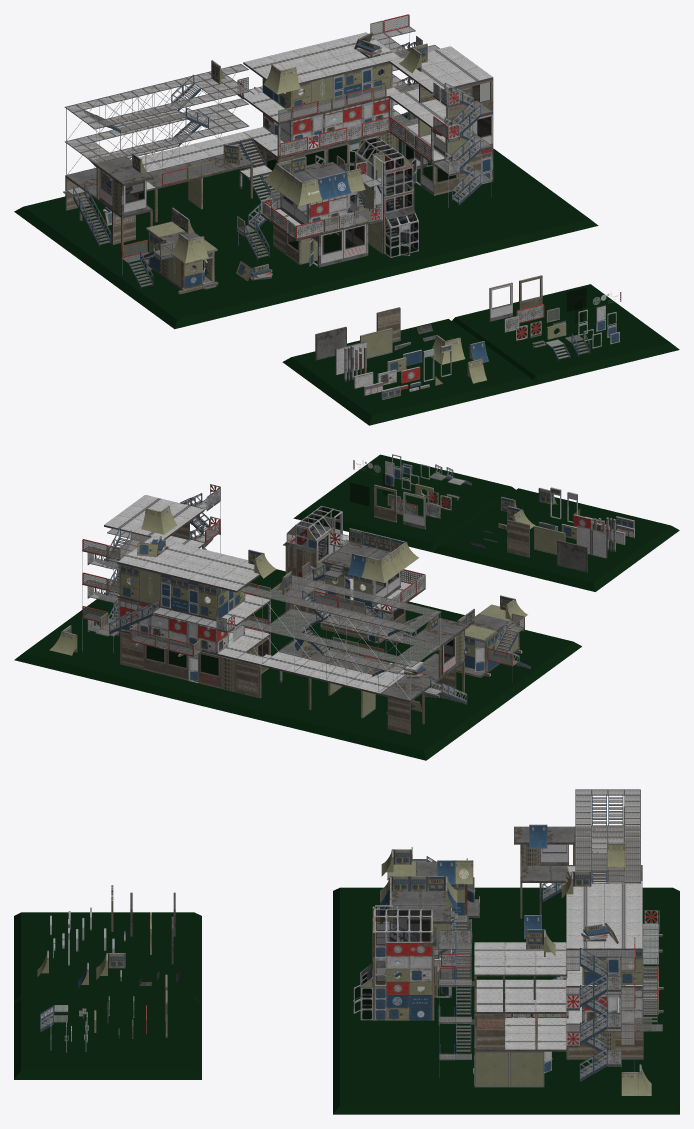
The picture shows the model from 3 angles, top to bottom: view 1: azimuth 30°, elevation 25°; view 2: azimuth 150°, elevation 25°; view 3: azimuth 270°, elevation 25°; orthographic projection. The views are drawn at different scales.
Visible parts, largest first — view 1: Floor, NO_Opacity_Buildings, WITH_opacity_Buildings, NO_Opacity_Kit, WITH_Opacity_Kit; view 2: Floor, NO_Opacity_Buildings, WITH_opacity_Buildings, NO_Opacity_Kit, WITH_Opacity_Kit; view 3: Floor, NO_Opacity_Buildings, WITH_opacity_Buildings, NO_Opacity_Kit, WITH_Opacity_Kit.
Part boxes in pixels (<box>): Floor: <box>14,113,679,425</box>; NO_Opacity_Buildings: <box>63,32,493,294</box>; WITH_opacity_Buildings: <box>64,14,493,289</box>; NO_Opacity_Kit: <box>315,307,619,400</box>; WITH_Opacity_Kit: <box>489,275,621,361</box>; Floor: <box>14,454,679,760</box>; NO_Opacity_Buildings: <box>49,495,527,734</box>; WITH_opacity_Buildings: <box>82,484,530,704</box>; NO_Opacity_Kit: <box>385,462,634,572</box>; WITH_Opacity_Kit: <box>350,454,471,529</box>; Floor: <box>14,887,679,1114</box>; NO_Opacity_Buildings: <box>353,790,663,1095</box>; WITH_opacity_Buildings: <box>353,789,662,1081</box>; NO_Opacity_Kit: <box>37,885,180,1041</box>; WITH_Opacity_Kit: <box>40,974,167,1052</box>.
Bounding box in the file's own units: 3699 × 1068 × 4654.
Materials: 3 (2 with a texture image).
